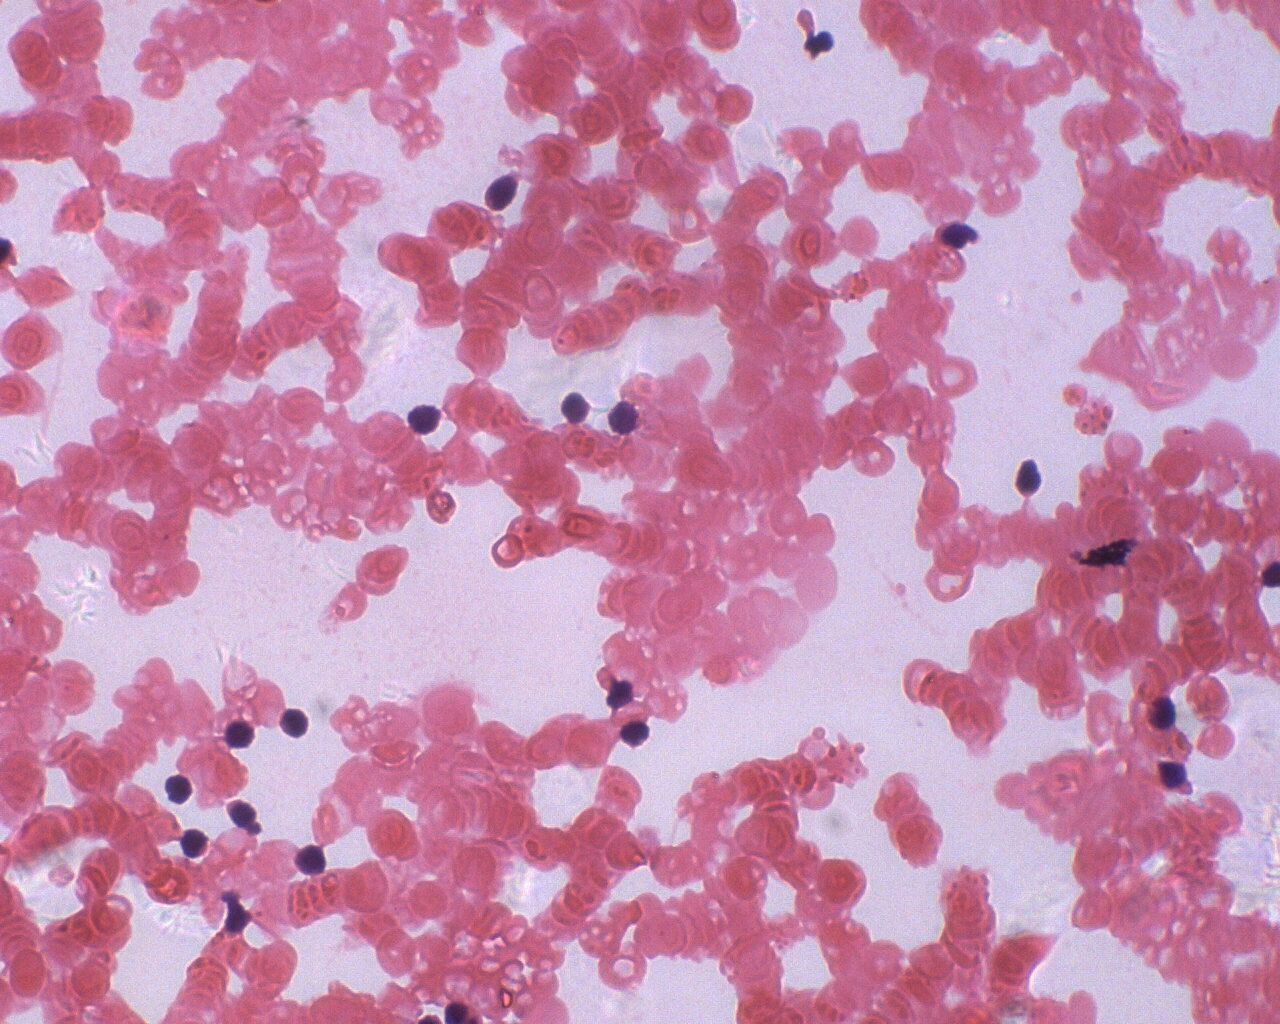lymph: (480, 166, 527, 218), (600, 393, 644, 441), (156, 766, 201, 812), (402, 399, 445, 439), (274, 703, 317, 743), (289, 841, 332, 881), (1146, 691, 1182, 734), (556, 391, 598, 426), (174, 827, 213, 863), (616, 715, 653, 751)
